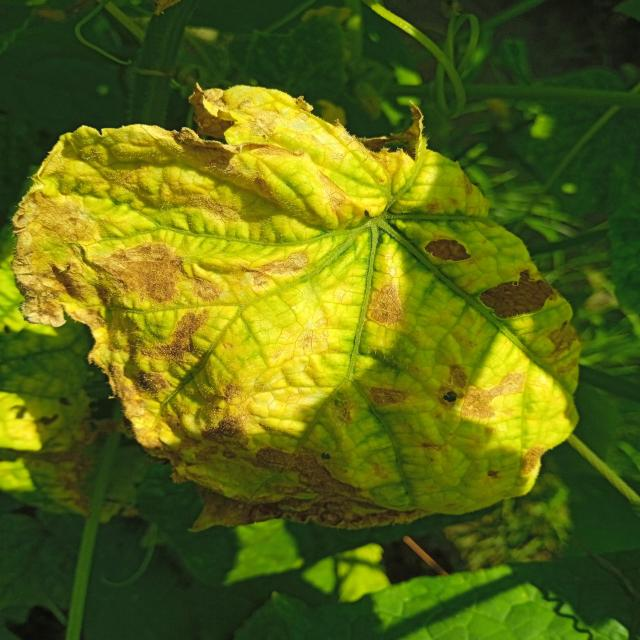cucumber_gummy: (13, 69, 590, 537)
